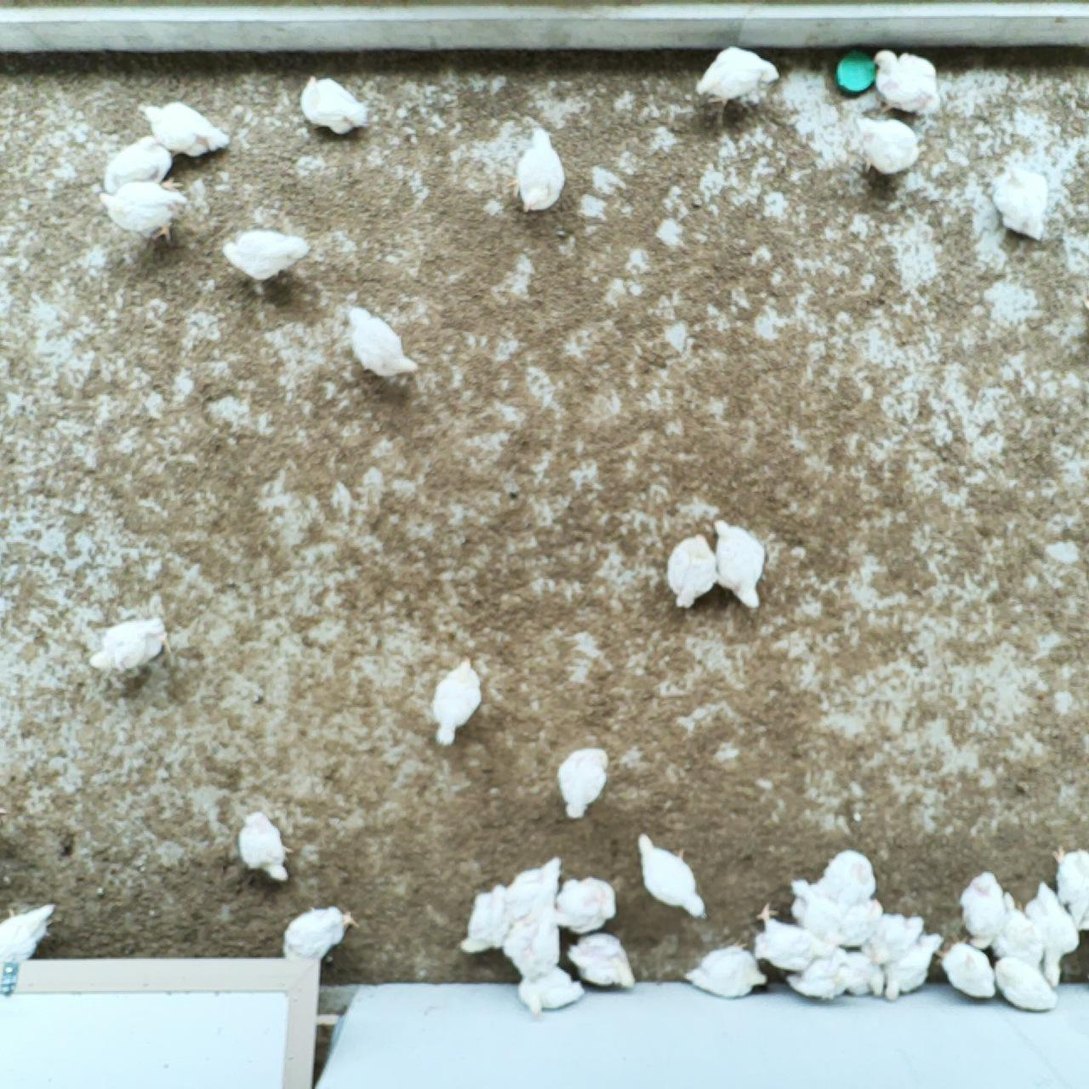chicken: (487, 852, 567, 953), (630, 830, 713, 927), (752, 896, 844, 978), (1020, 878, 1083, 990), (787, 876, 882, 949), (341, 302, 423, 385), (97, 175, 190, 247), (691, 39, 782, 109), (504, 124, 569, 221), (858, 49, 944, 121), (679, 935, 770, 1003), (140, 99, 235, 161), (710, 515, 769, 612), (86, 613, 175, 677), (497, 894, 562, 981), (220, 225, 311, 287), (279, 900, 364, 963), (850, 113, 928, 181), (429, 654, 485, 748), (991, 161, 1052, 247), (99, 131, 175, 200), (934, 931, 1003, 1005), (234, 807, 297, 887), (662, 530, 722, 613), (552, 745, 613, 826), (988, 889, 1047, 972), (882, 927, 945, 1004), (955, 867, 1011, 953), (565, 929, 638, 994), (297, 72, 372, 135), (513, 964, 588, 1023), (991, 952, 1061, 1015), (551, 871, 617, 936), (455, 879, 511, 955), (859, 909, 927, 966), (1048, 840, 1089, 932), (0, 898, 57, 962), (810, 847, 878, 900), (786, 954, 851, 1005), (831, 943, 888, 1000)
